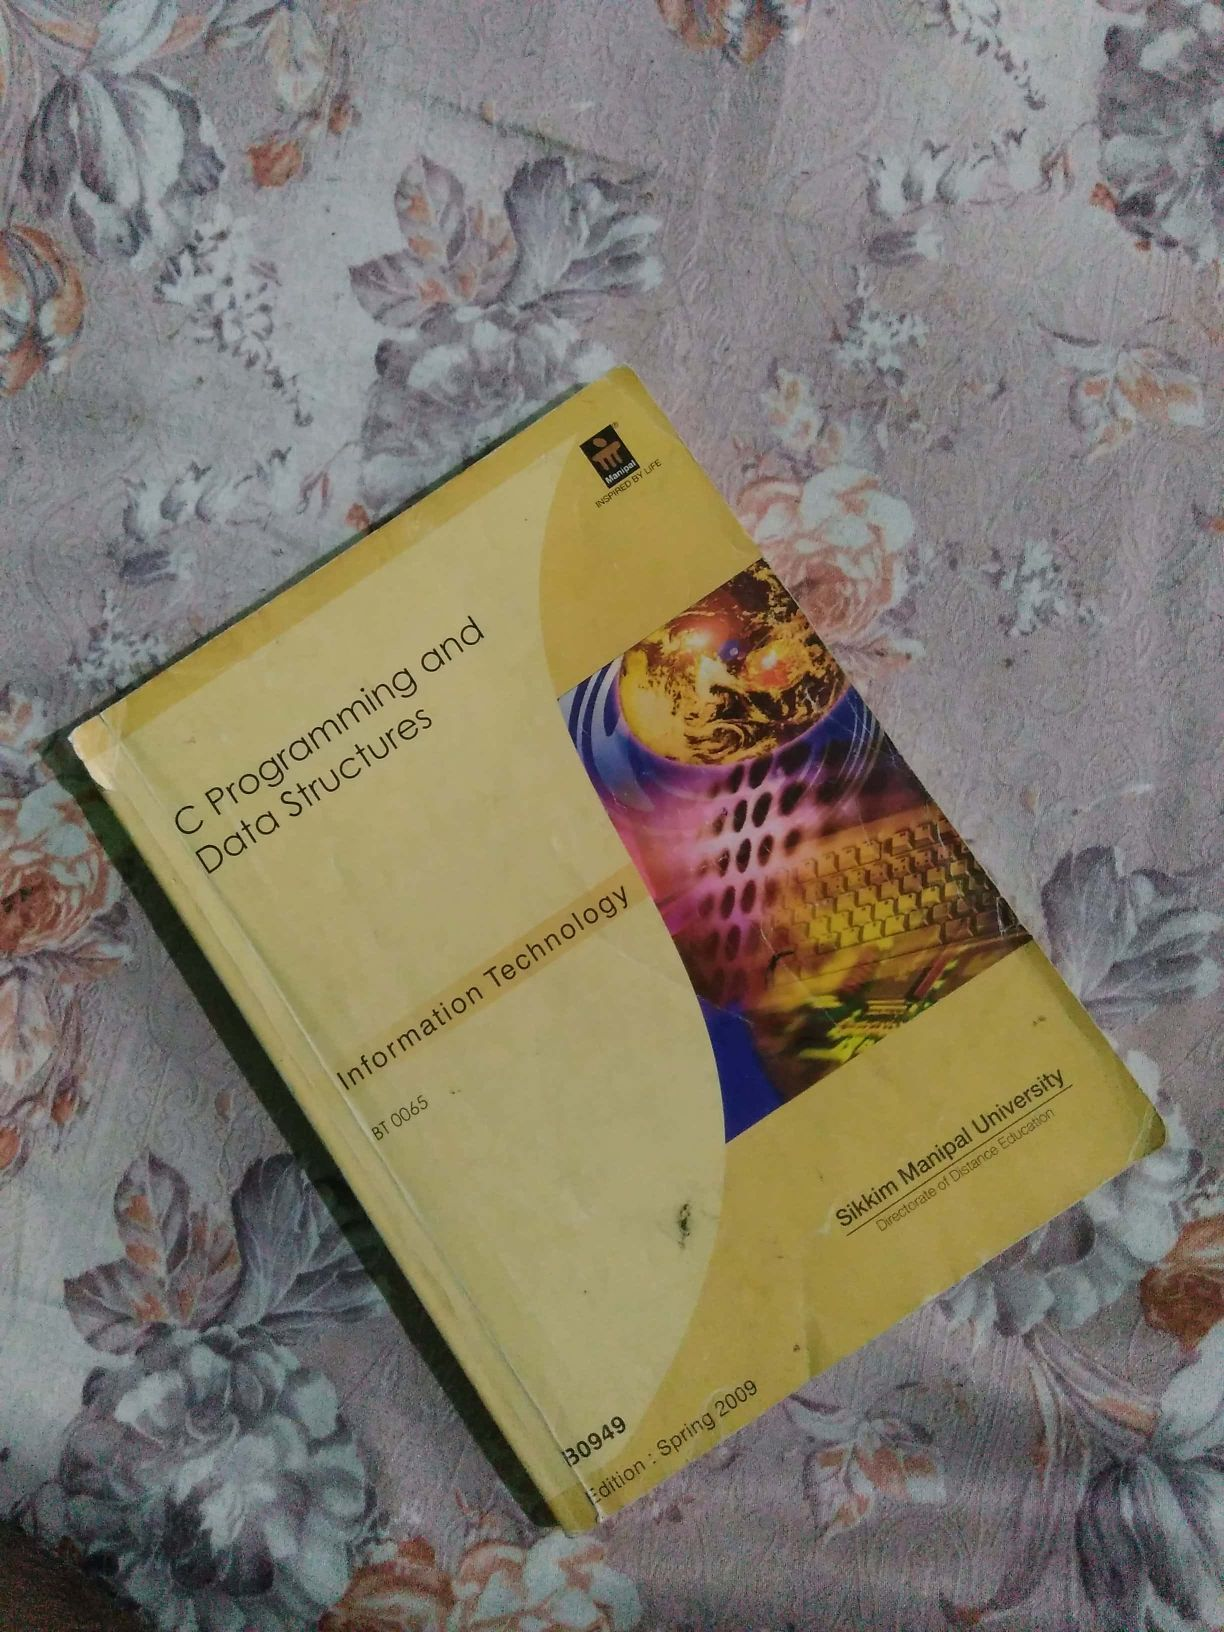clang: (105, 409, 1137, 1565)
